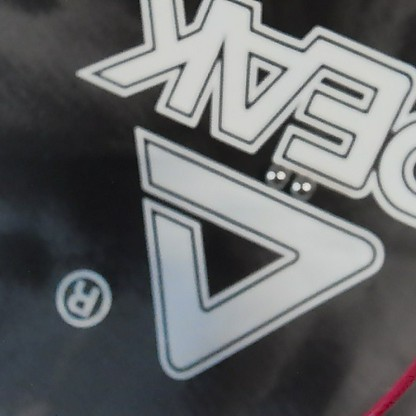ironball: (266, 163, 287, 187), (292, 175, 312, 198)
